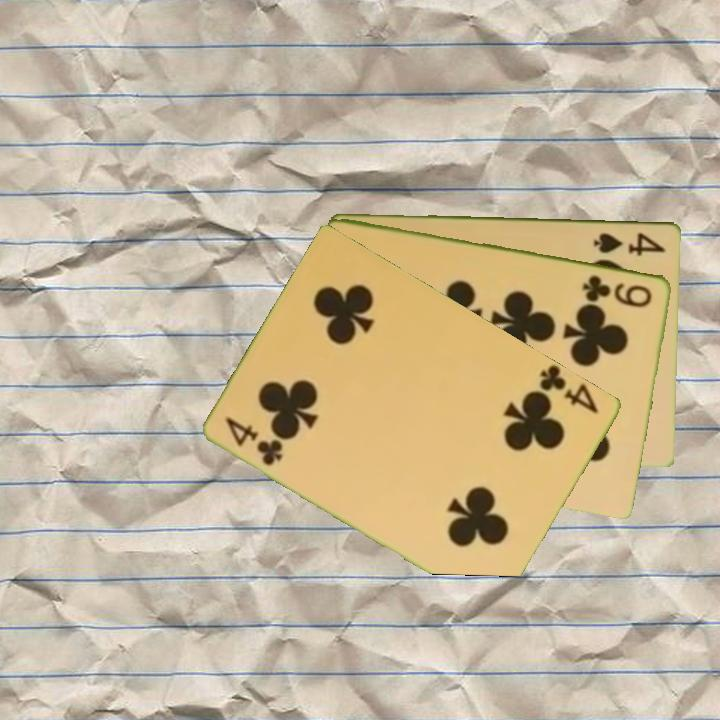4c: (223, 413, 287, 469), (536, 362, 602, 416)
4s: (590, 228, 669, 257)
9c: (579, 271, 655, 310)
